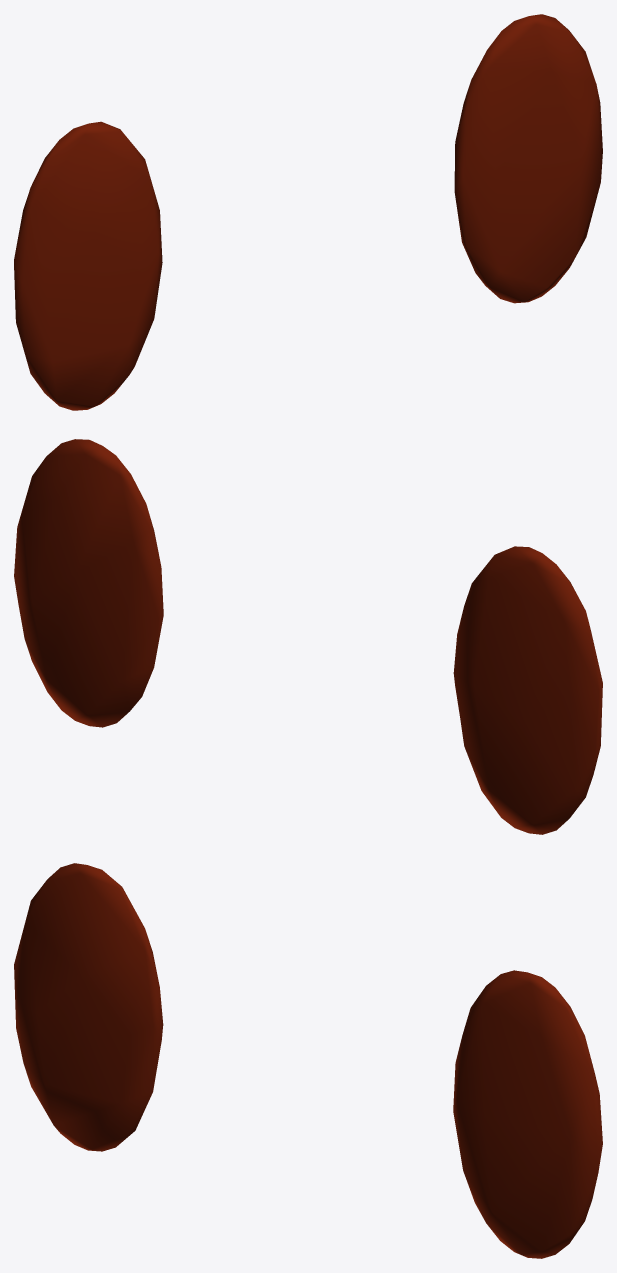
Rendered from loot-bag-nostril.obj.
The picture shows the model from 3 angles, top to bottom: view 1: azimuth 30°, elevation 25°; view 2: azimuth 150°, elevation 25°; view 3: azimuth 330°, elevation 25°; orthographic projection.
Parts seen in each view (by area): view 1: Nostril; view 2: Nostril; view 3: Nostril.
Part boxes in pixels (bbox=[...]): Nostril: bbox=[14, 14, 602, 410]; Nostril: bbox=[14, 439, 602, 834]; Nostril: bbox=[14, 863, 602, 1258].
Bounding box in the file's own units: 0.2868 × 0.1332 × 0.0111.
